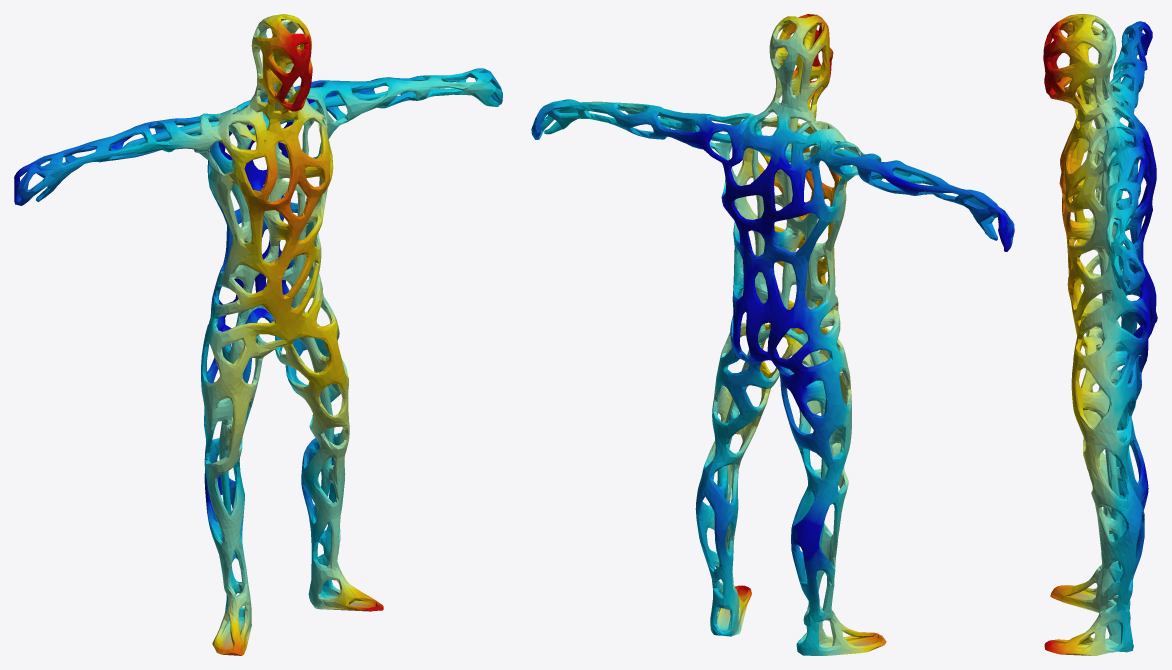
The model's file is holey_fem.glb.
3 renders of one model, left to right at view 1: azimuth 30°, elevation 25°; view 2: azimuth 150°, elevation 25°; view 3: azimuth 270°, elevation 25°, orthographic.
Parts seen in each view (by area): view 1: holey_t.obj; view 2: holey_t.obj; view 3: holey_t.obj.
Boxes of the visible parts, x1,y1,x2,y2 form: holey_t.obj: (14, 14, 502, 655); holey_t.obj: (531, 14, 1014, 655); holey_t.obj: (1043, 14, 1157, 655).
Size of the model in its own units: 1.39 by 1.7 by 0.2895.
